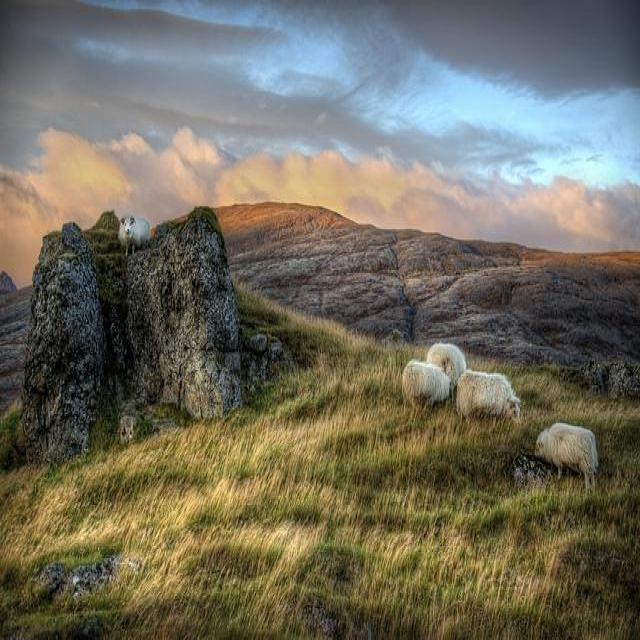Sheep: (454, 372, 522, 442), (534, 425, 598, 493), (402, 362, 453, 412), (427, 344, 467, 402)
